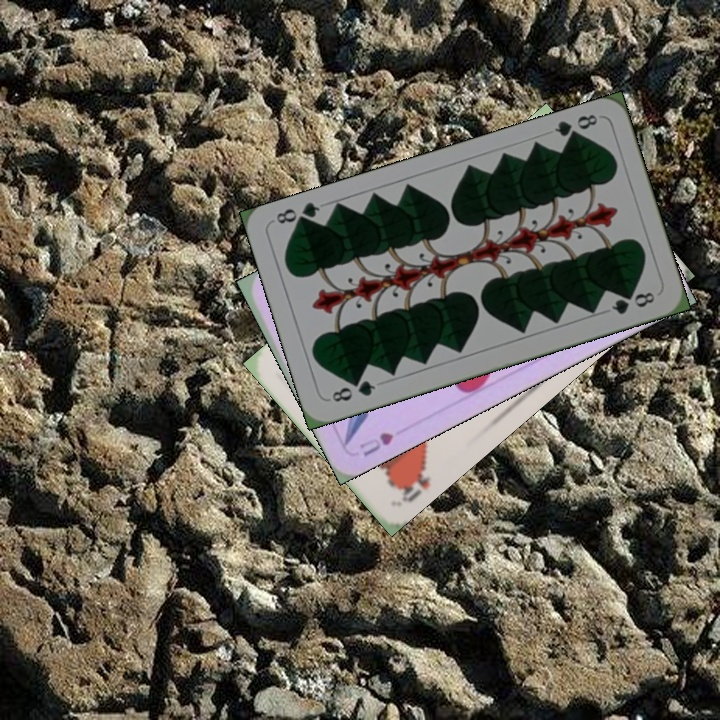G8: (550, 110, 600, 144), (328, 376, 378, 405)
HO: (395, 462, 433, 505)
HU: (355, 428, 396, 460)
